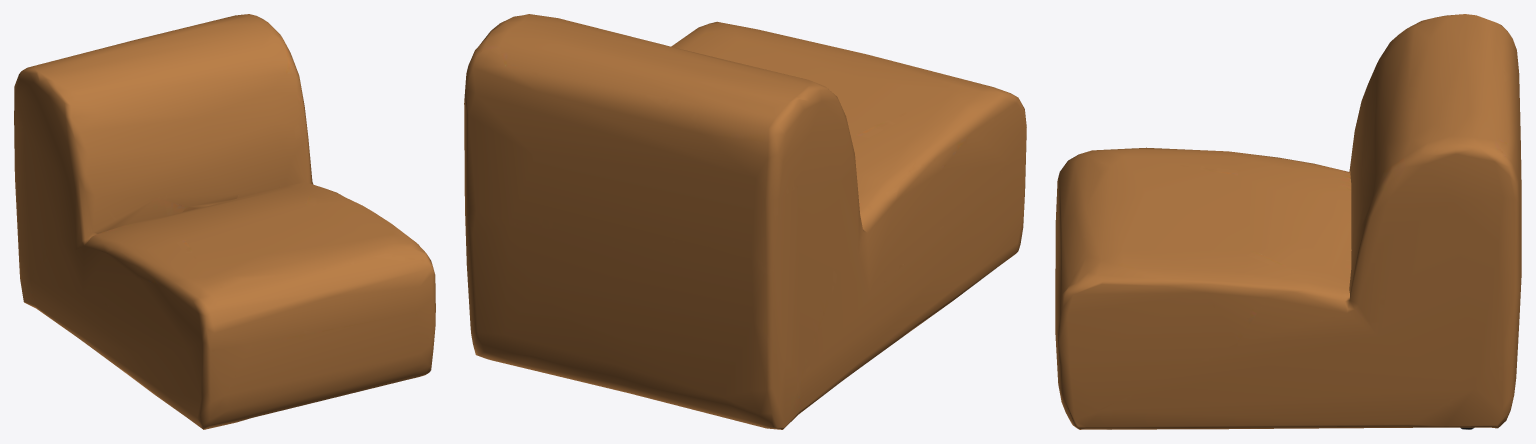
The model's file is stockholm-2025-sofa-de-1-plaza-alhamn-beige.glb.
3 renders of one model, left to right at view 1: azimuth 30°, elevation 25°; view 2: azimuth 150°, elevation 25°; view 3: azimuth 270°, elevation 25°, orthographic. The views are drawn at different scales.
Parts seen in each view (by area): view 1: ASY_ART_20586123_S01_NV01; view 2: ASY_ART_20586123_S01_NV01; view 3: ASY_ART_20586123_S01_NV01.
Part boxes in pixels (x1=…): ASY_ART_20586123_S01_NV01: x1=14, y1=14, x2=435, y2=429; ASY_ART_20586123_S01_NV01: x1=464, y1=14, x2=1026, y2=429; ASY_ART_20586123_S01_NV01: x1=1055, y1=14, x2=1521, y2=429.
Bounding box in the file's own units: 0.7014 × 0.6994 × 0.997.
Materials: 1 (1 with a texture image).
